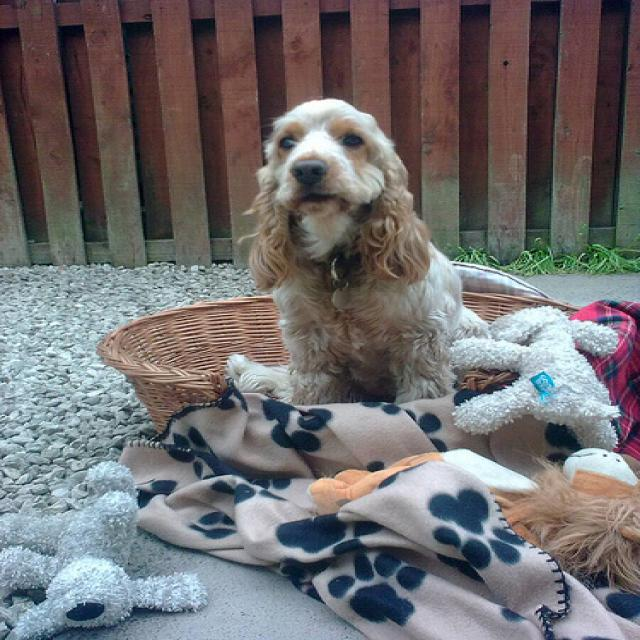dog-english_cocker_spaniel: (213, 92, 497, 422)
